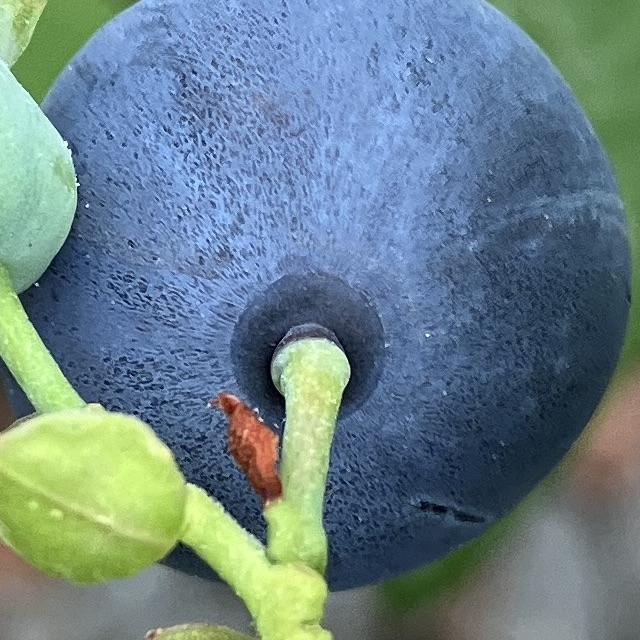Blueberries: (13, 0, 634, 596), (0, 0, 97, 338)
